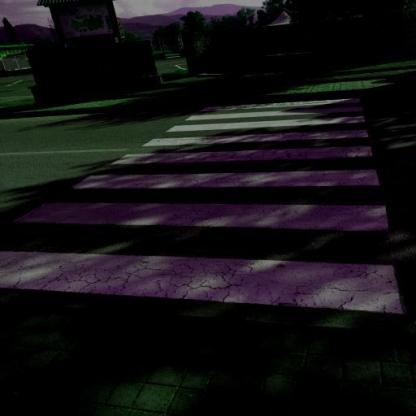crosswalk: (62, 143, 393, 193), (166, 104, 370, 135)
